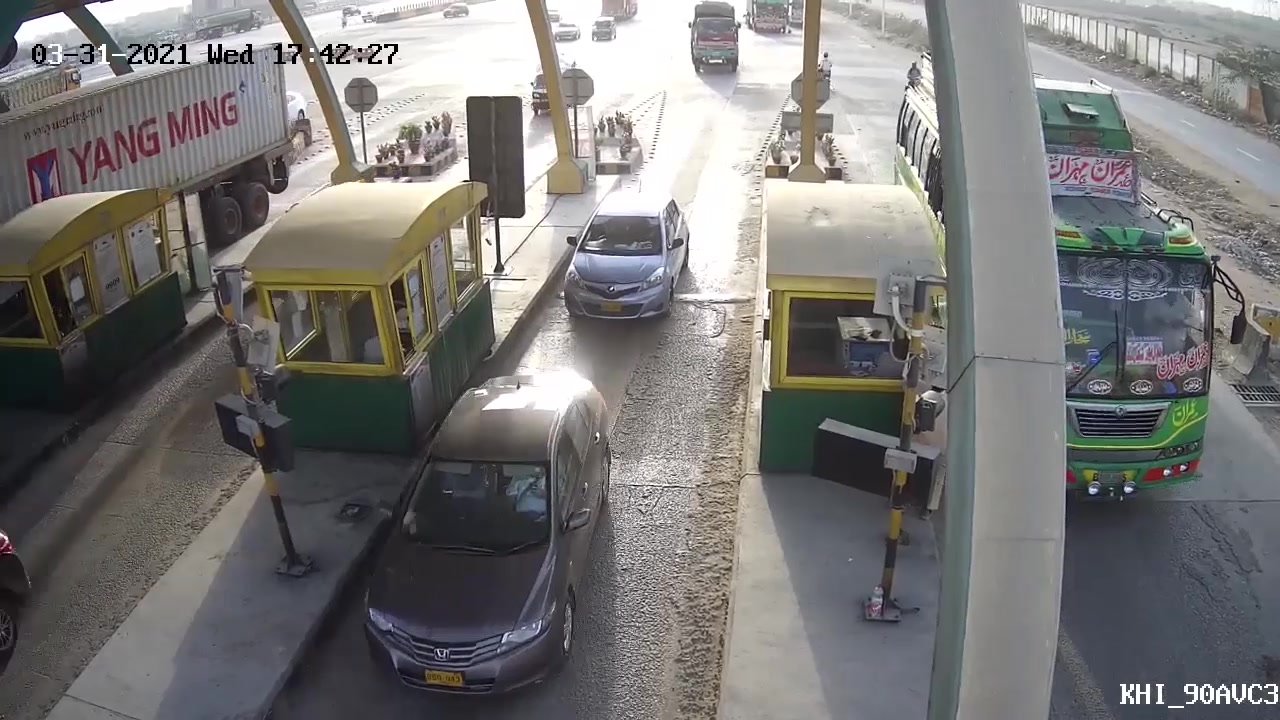F1: (346, 370, 624, 704), (560, 187, 695, 341)
